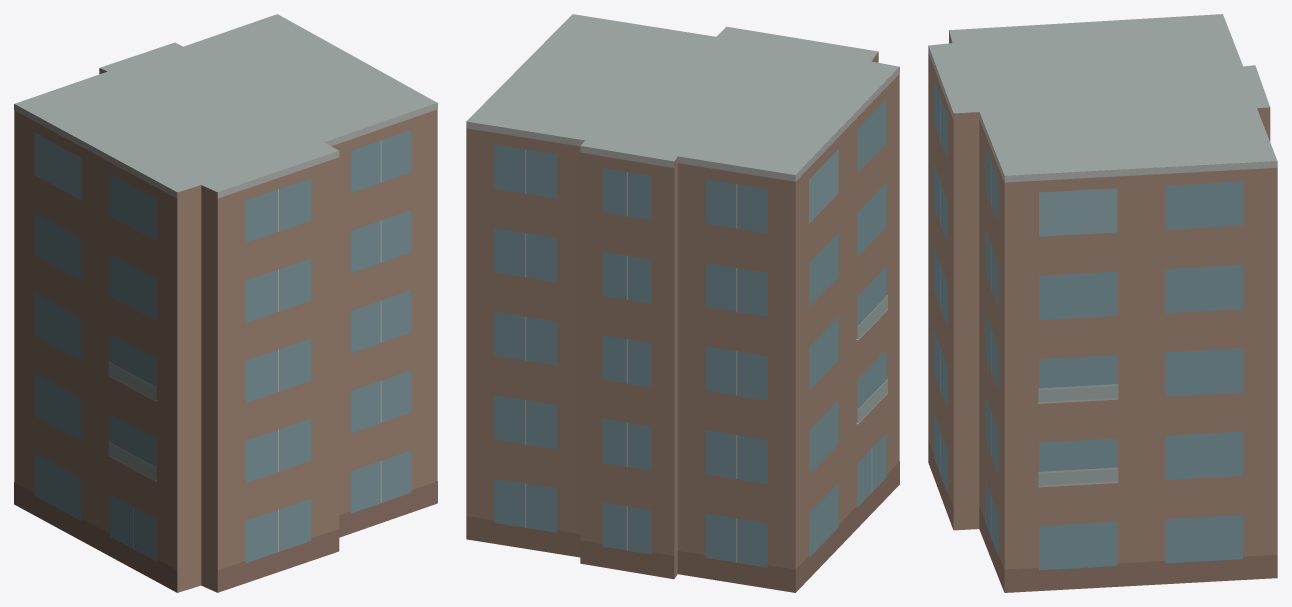
Rendered from survey-upis-32464203.glb.
3 views of the same model, side by side, from view 1: azimuth 30°, elevation 25°; view 2: azimuth 150°, elevation 25°; view 3: azimuth 270°, elevation 25° (orthographic). The views are drawn at different scales.
Parts seen in each view (by area): view 1: survey-upis-32464203.tmp; view 2: survey-upis-32464203.tmp; view 3: survey-upis-32464203.tmp.
Part boxes in pixels (x1,y1,x2,y2): survey-upis-32464203.tmp: (14,14,437,592); survey-upis-32464203.tmp: (466,14,899,592); survey-upis-32464203.tmp: (928,14,1277,592).
Bounding box in the file's own units: 12.67 × 15.2 × 11.55.
